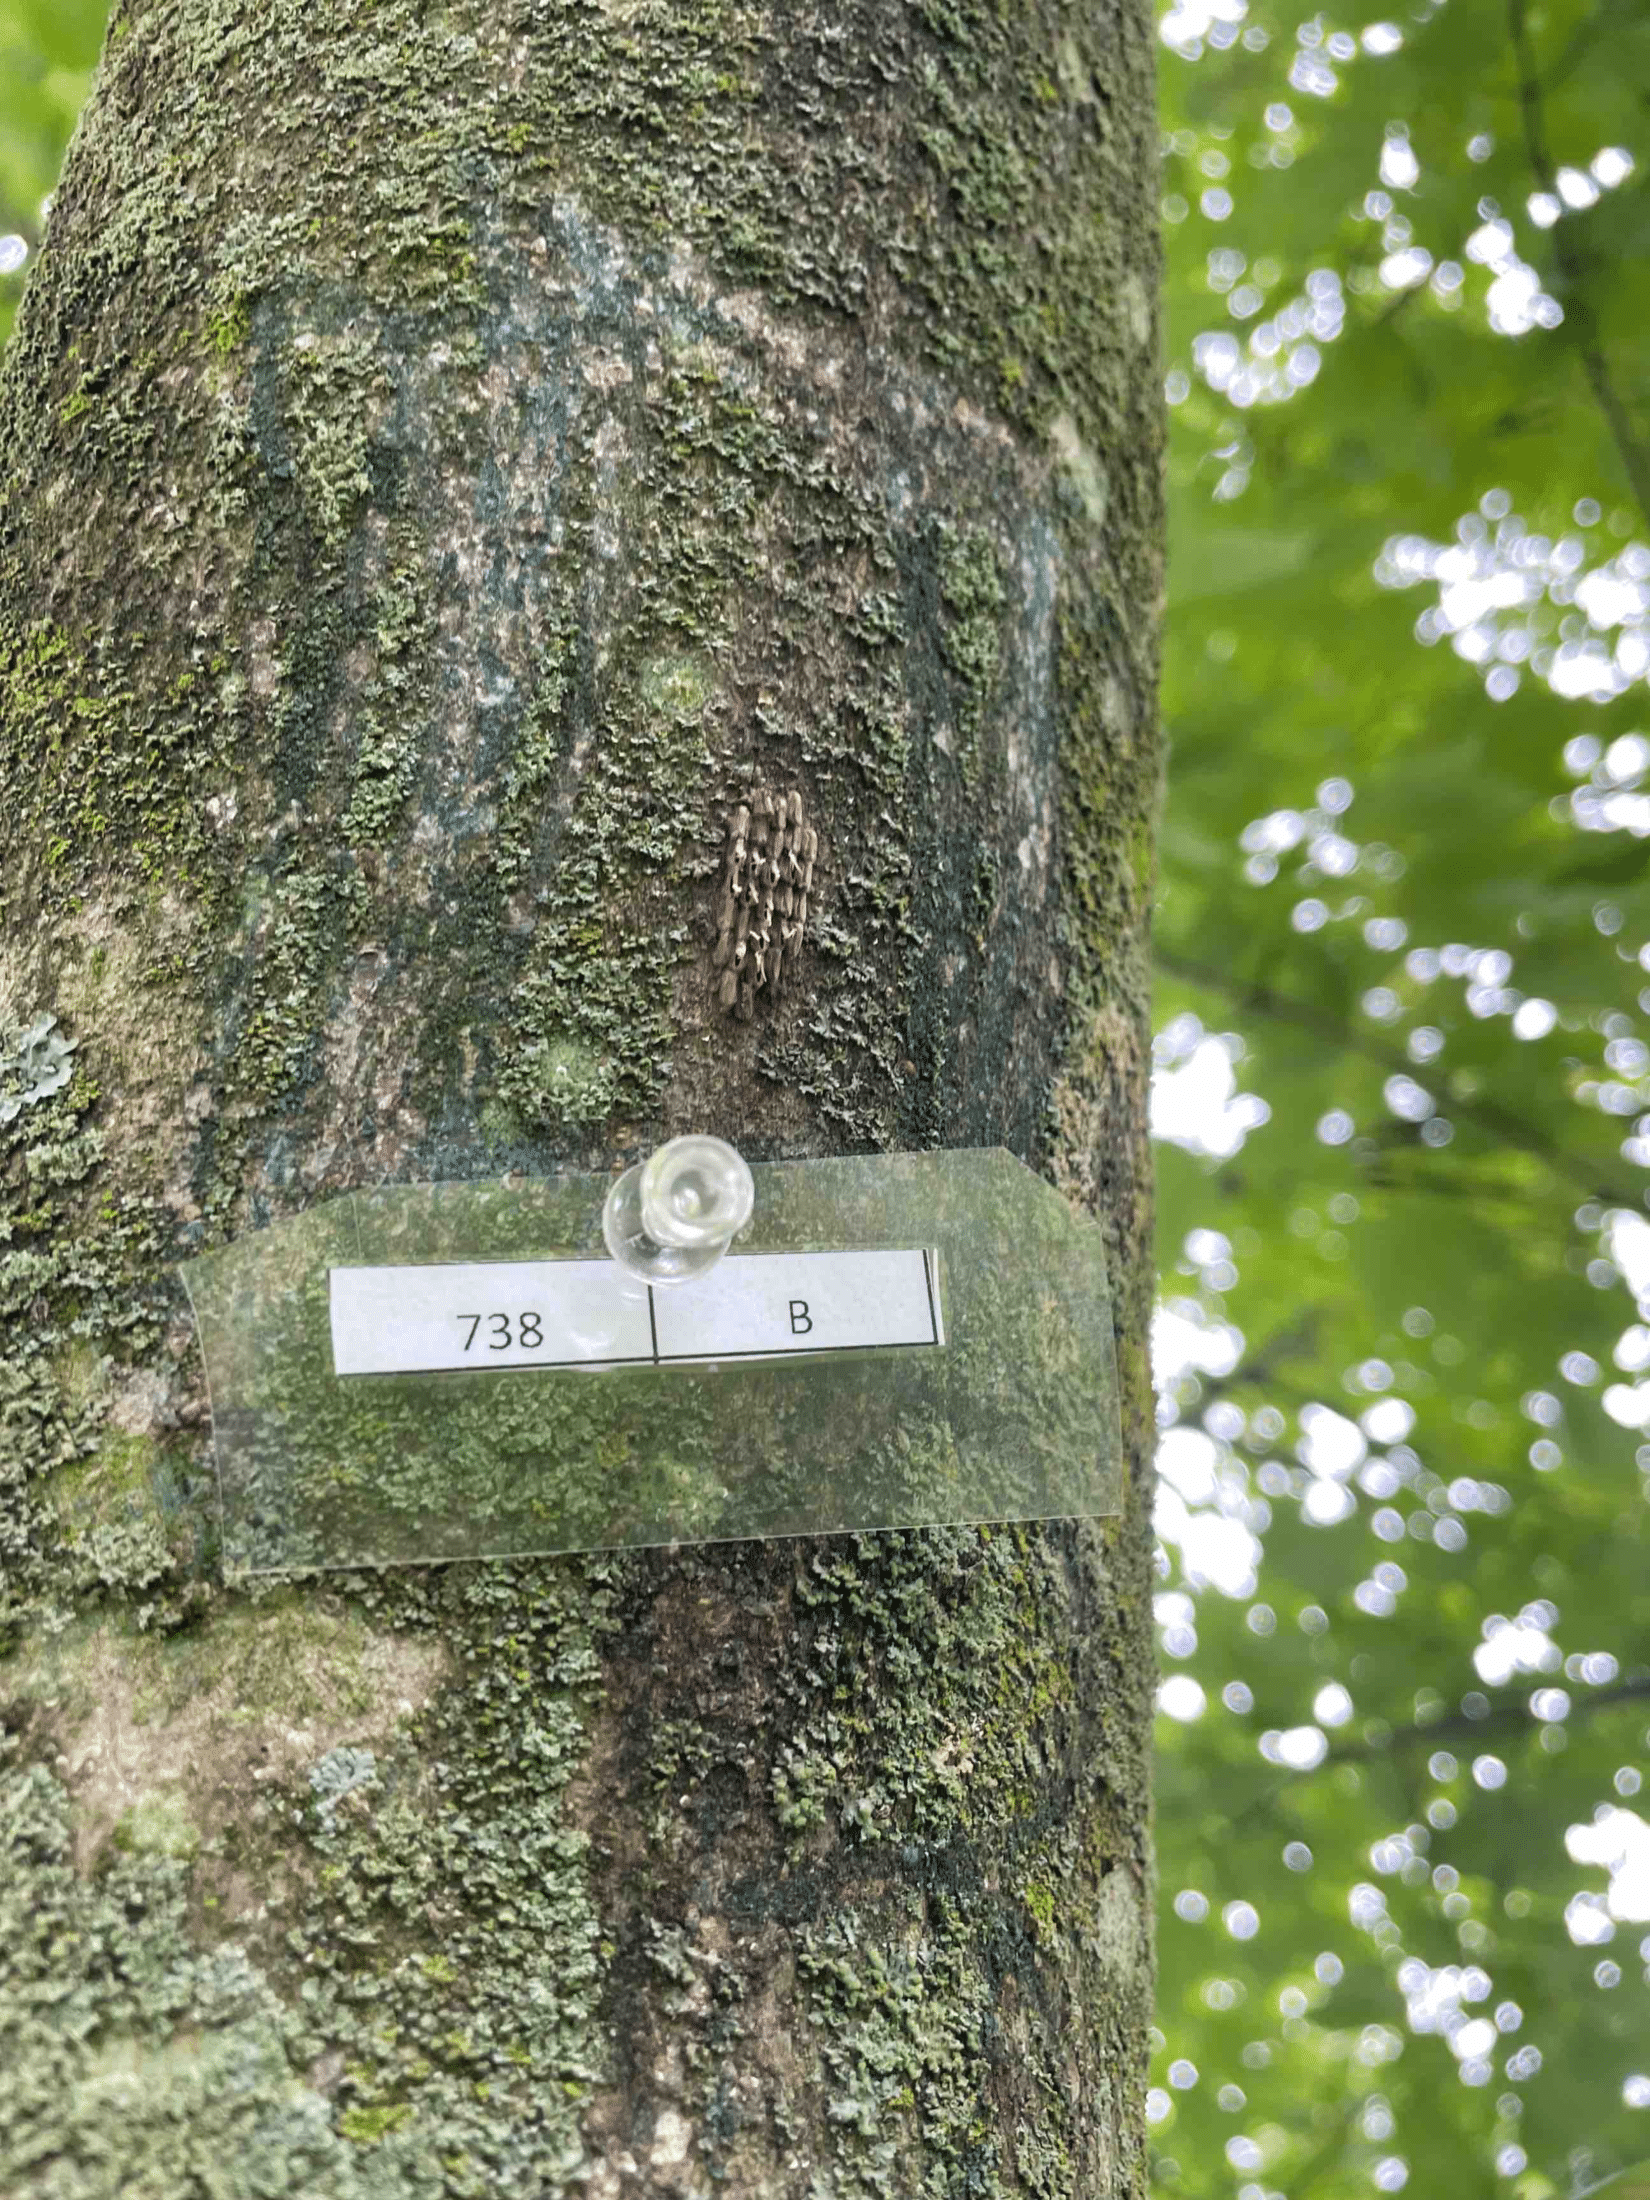egg masses: (704, 774, 837, 1029)
